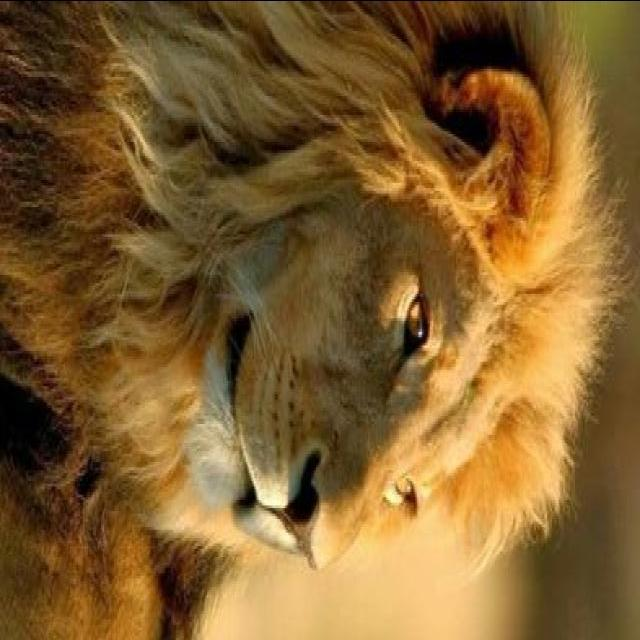lions: (0, 12, 640, 640)
